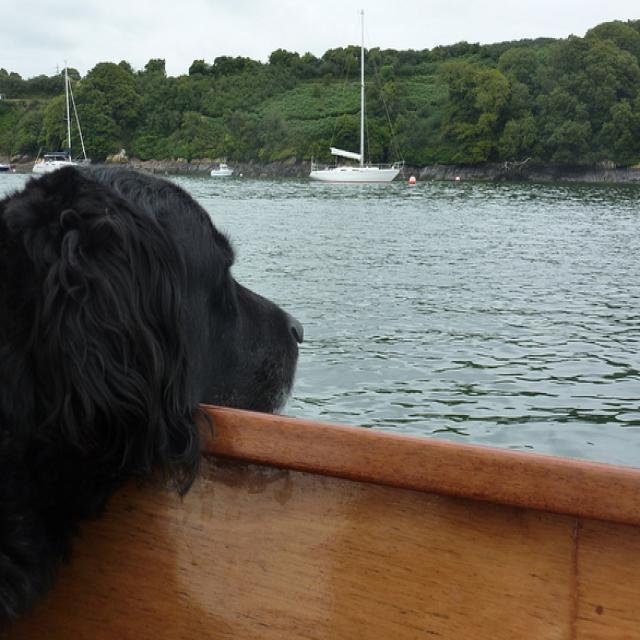houseboat: (305, 144, 409, 194)
